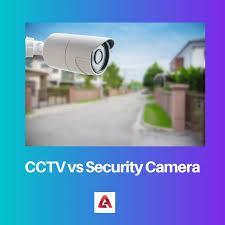maru: (44, 33, 114, 74)
